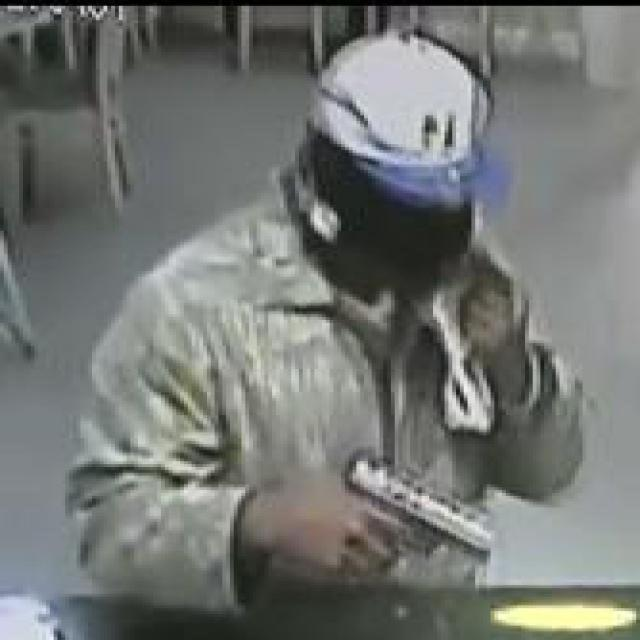weapon: (339, 450, 496, 576)
